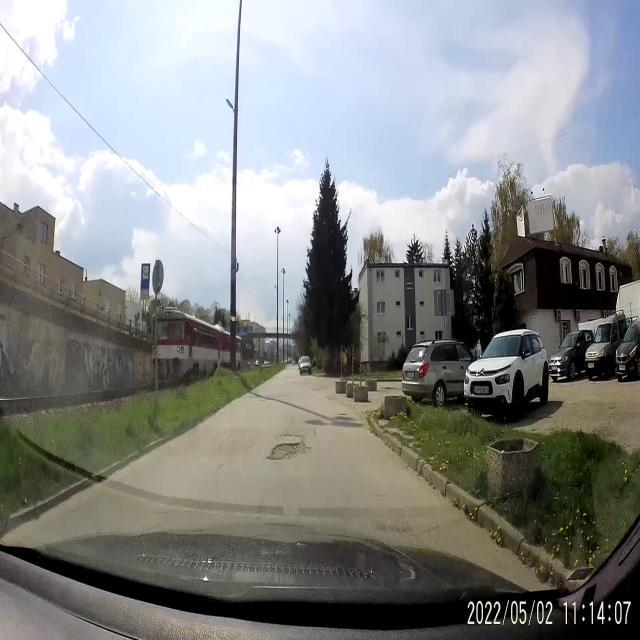Pothole: (265, 432, 309, 468), (338, 410, 351, 418)
